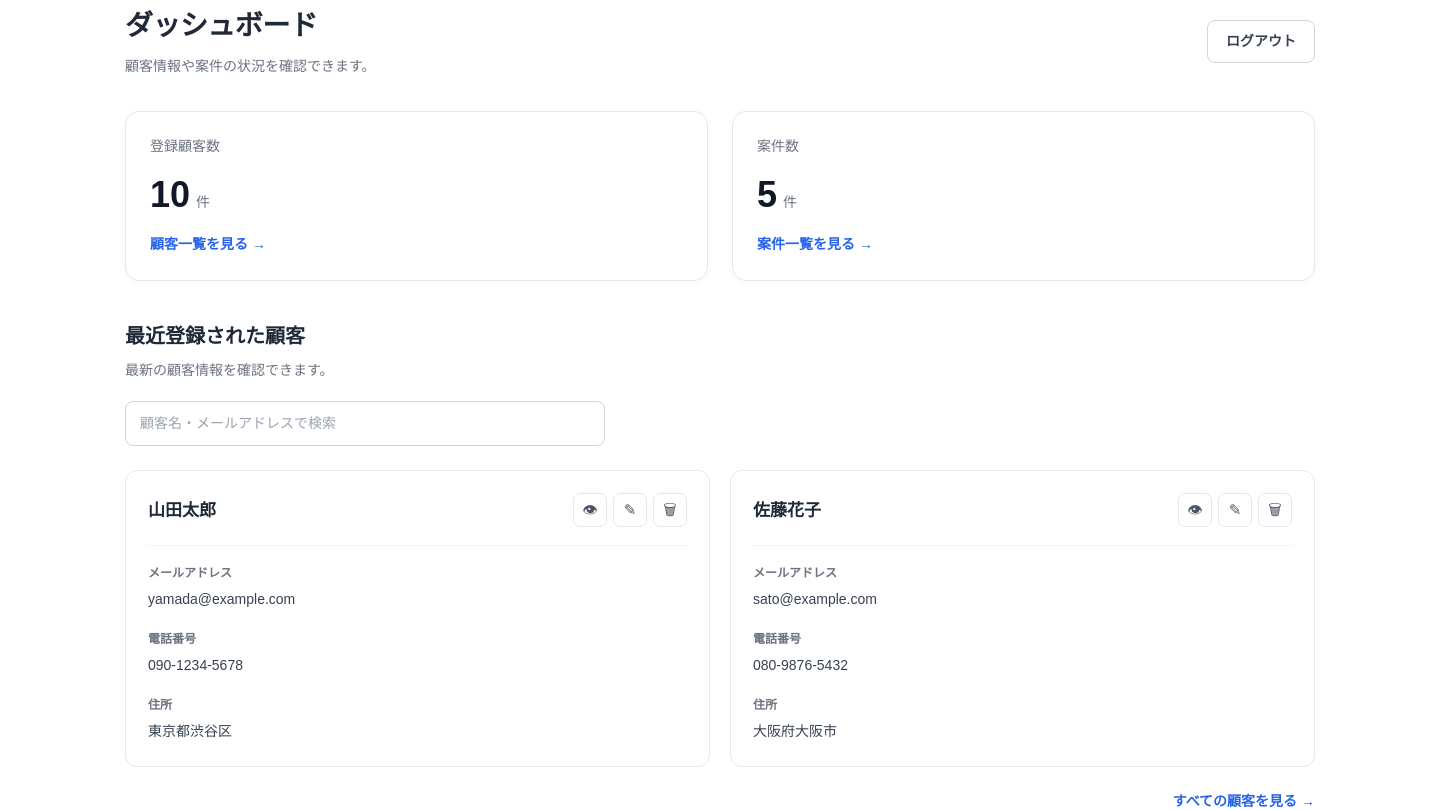
Test: DashboardTemplate › 顧客検索 › 検索結果がない場合は空状態を表示する
Type "存在しない顧客" into the search field at (365, 424), box [125, 401, 605, 446]
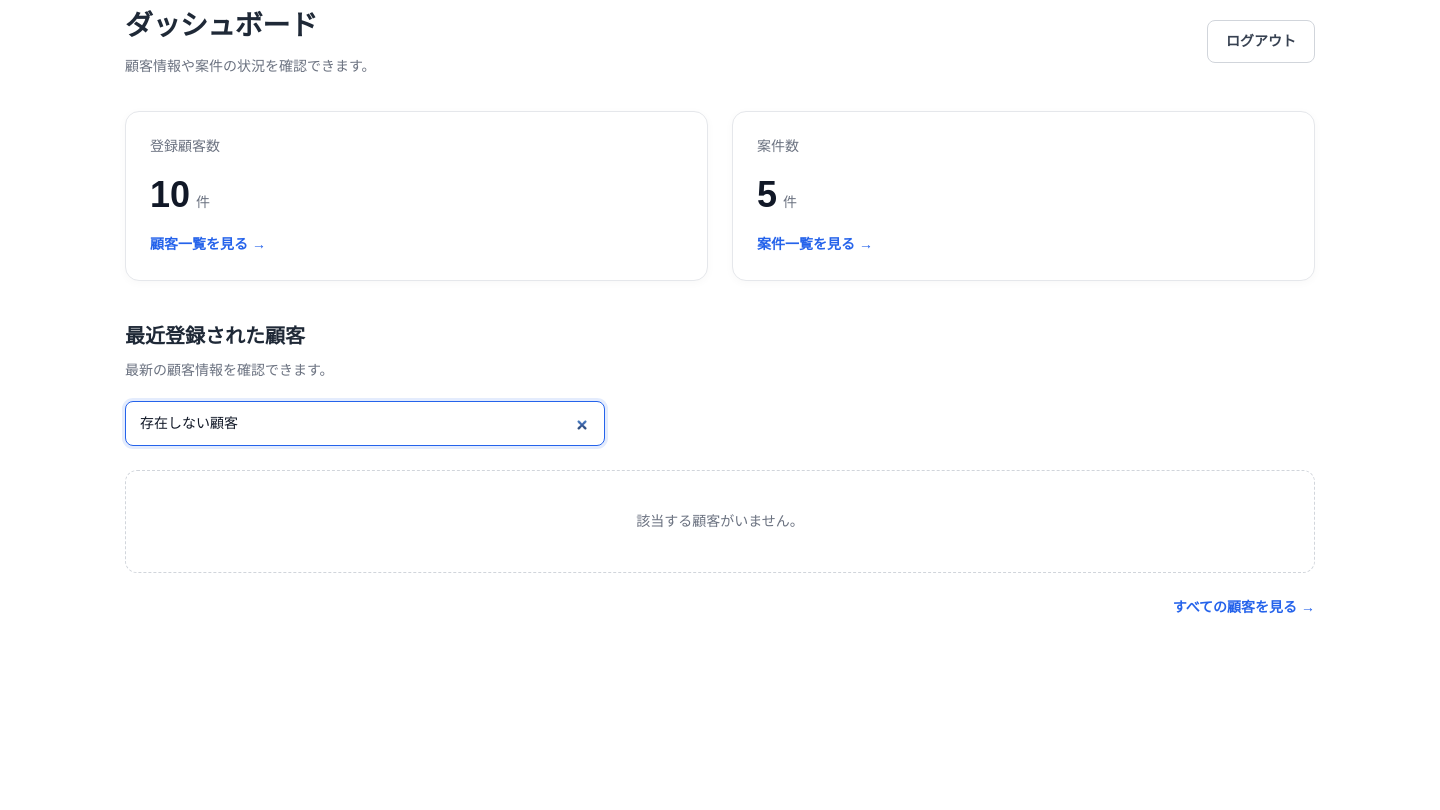
Now the text "該当する顧客がいません。" is shown, box [636, 513, 804, 529]
Now the heading "山田太郎" is gone
